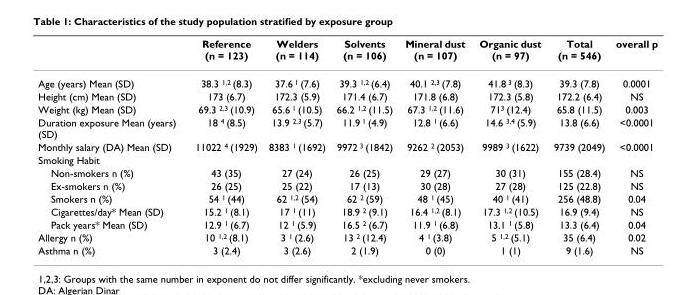table: (37, 37, 657, 255)
table column: (37, 37, 184, 255), (184, 37, 262, 255), (471, 37, 546, 255), (398, 37, 471, 255), (262, 37, 330, 255), (330, 37, 398, 255), (546, 37, 609, 255), (609, 37, 657, 255)
table column header: (37, 37, 657, 69)
table projected row header: (37, 152, 657, 165)
table row: (37, 37, 657, 69), (37, 115, 657, 140), (37, 69, 657, 89), (37, 89, 657, 102), (37, 102, 657, 115), (37, 152, 657, 165), (37, 165, 657, 178), (37, 178, 657, 191), (37, 191, 657, 204), (37, 204, 657, 217), (37, 217, 657, 230), (37, 230, 657, 243), (37, 140, 657, 152), (37, 243, 657, 255)
